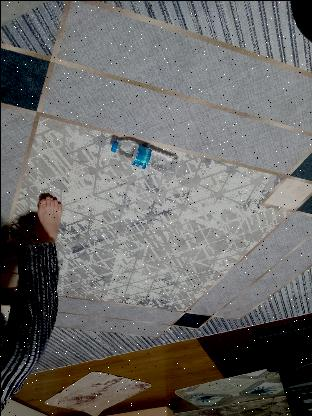Plastic Bottle: (111, 138, 179, 174)
